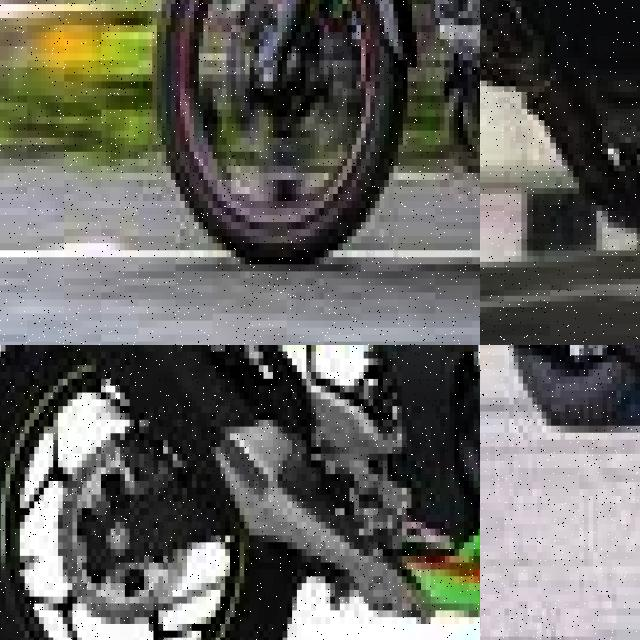bike: (0, 345, 480, 640), (152, 0, 480, 285), (480, 0, 640, 345), (495, 345, 640, 482)
